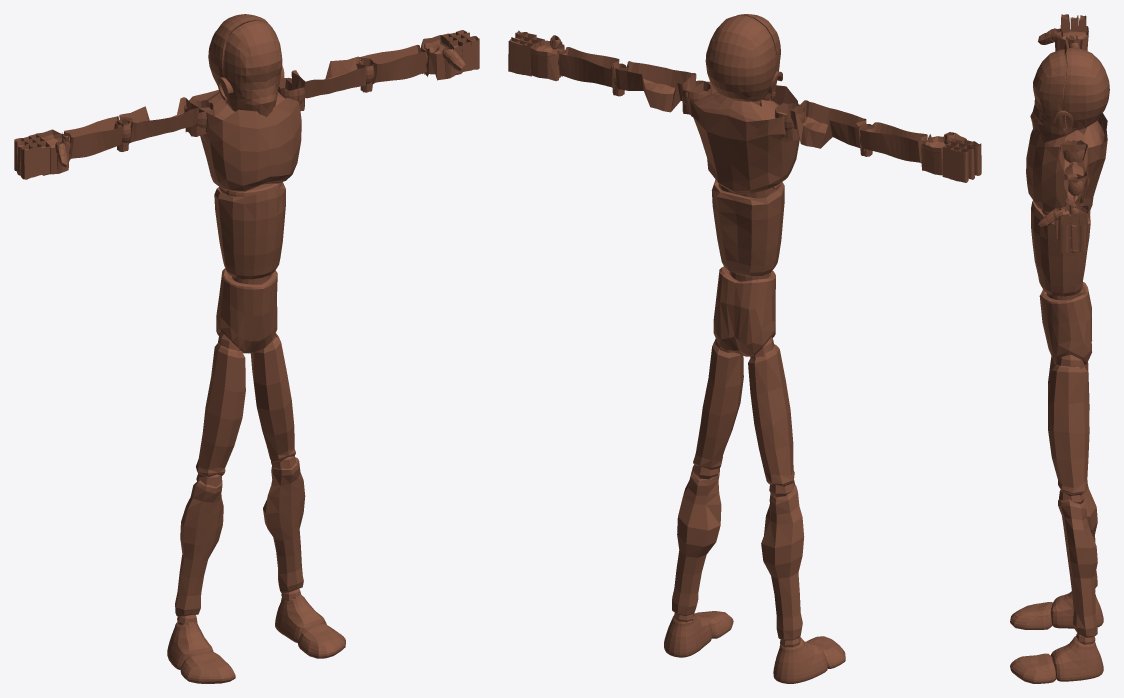
3 renders of one model, left to right at view 1: azimuth 30°, elevation 25°; view 2: azimuth 150°, elevation 25°; view 3: azimuth 270°, elevation 25°, orthographic. The views are drawn at different scales.
Parts seen in each view (by area): view 1: base_mannequin.glb, base_mannequin.glb_2; view 2: base_mannequin.glb, base_mannequin.glb_2; view 3: base_mannequin.glb, base_mannequin.glb_2.
Boxes of the visible parts, x1,y1,x2,y2 form: base_mannequin.glb: (14, 14, 479, 683); base_mannequin.glb_2: (61, 48, 427, 624); base_mannequin.glb: (508, 14, 981, 683); base_mannequin.glb_2: (558, 51, 929, 647); base_mannequin.glb: (1010, 14, 1109, 683); base_mannequin.glb_2: (1042, 39, 1095, 644).
Size of the model in its own units: 1.58 by 2.09 by 0.3162.
Materials: 3 (3 with a texture image).
